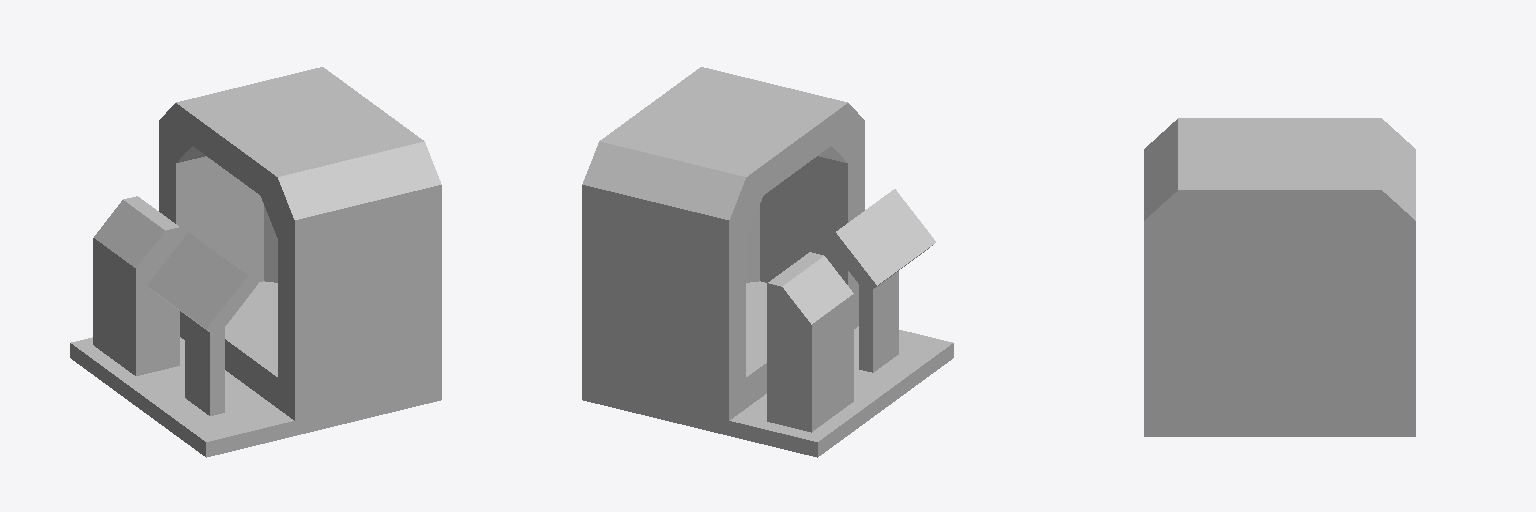
File: boiler_base_max.obj
3 views of the same model, side by side, from view 1: azimuth 30°, elevation 25°; view 2: azimuth 150°, elevation 25°; view 3: azimuth 270°, elevation 25° (orthographic).
Visible parts, largest first — view 1: cube, base; view 2: cube, base; view 3: cube, base.
Boxes of the visible parts, x1,y1,x2,y2 form: cube: [93, 67, 441, 420]; base: [70, 337, 441, 457]; cube: [582, 67, 935, 432]; base: [582, 326, 953, 457]; cube: [1144, 118, 1415, 420]; base: [1144, 421, 1415, 436].
Size of the model in its own units: 16 by 16 by 16.